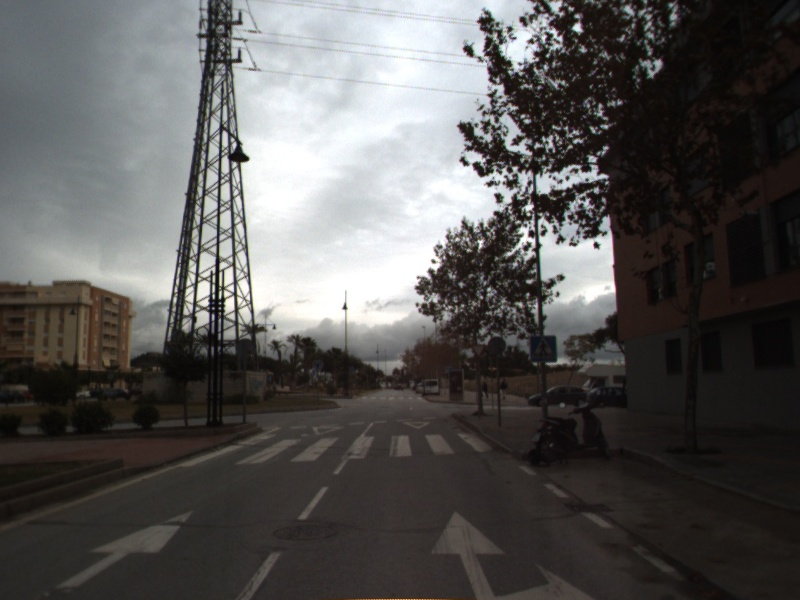STRAIGHT: (28, 507, 197, 600)
STRAIGHT_RIGHT: (428, 508, 597, 600)
